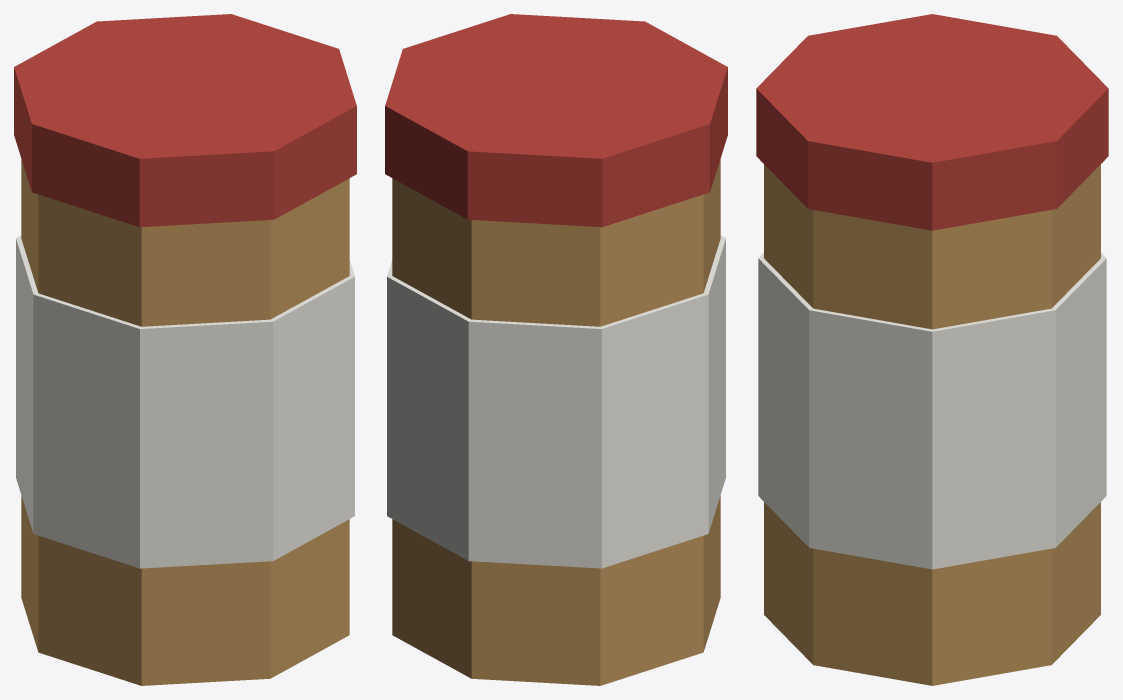
File: FD_PeanutButter_01.glb
3 views of the same model, side by side, from view 1: azimuth 30°, elevation 25°; view 2: azimuth 150°, elevation 25°; view 3: azimuth 270°, elevation 25° (orthographic).
Parts seen in each view (by area): view 1: FD_PeanutButter_01; view 2: FD_PeanutButter_01; view 3: FD_PeanutButter_01.
Part boxes in pixels (x1,y1,x2,y2): FD_PeanutButter_01: [14, 14, 356, 685]; FD_PeanutButter_01: [385, 14, 727, 685]; FD_PeanutButter_01: [756, 14, 1108, 685].
Size of the model in its own units: 0.094 by 0.155 by 0.094.
Materials: 1 (1 with a texture image).
